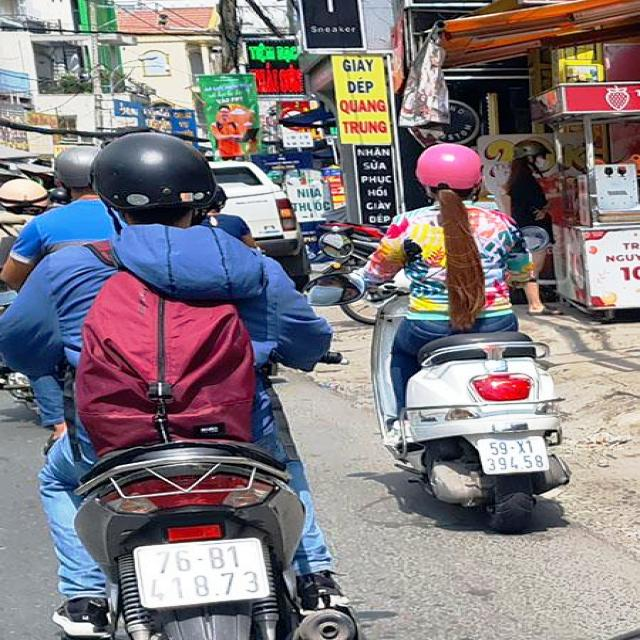license_plate: (135, 538, 269, 611), (477, 437, 550, 475)
